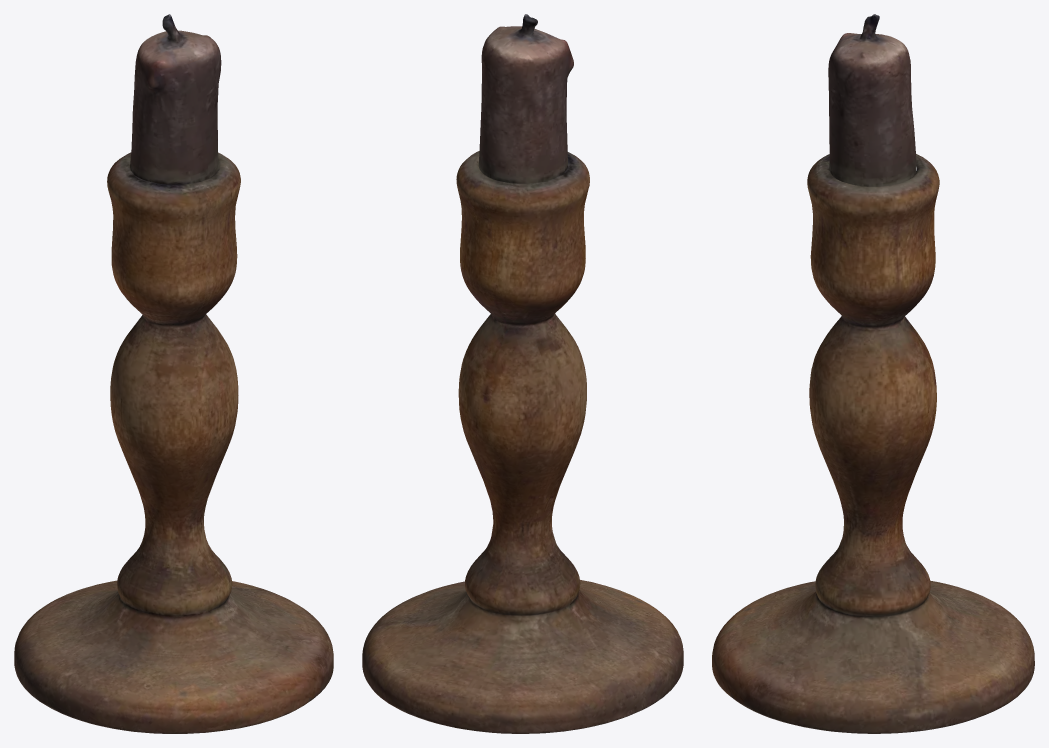
The model's file is wooden_candlestick.glb.
The picture shows the model from 3 angles, left to right: view 1: azimuth 30°, elevation 25°; view 2: azimuth 150°, elevation 25°; view 3: azimuth 270°, elevation 25°; orthographic projection.
Visible parts, largest first — view 1: wooden_candlestick; view 2: wooden_candlestick; view 3: wooden_candlestick.
Part boxes in pixels (x1,y1,x2,y2): wooden_candlestick: (14, 14, 333, 733); wooden_candlestick: (362, 14, 683, 733); wooden_candlestick: (712, 14, 1034, 733).
Size of the model in its own units: 0.0972 by 0.2197 by 0.0986.
Materials: 1 (1 with a texture image).
